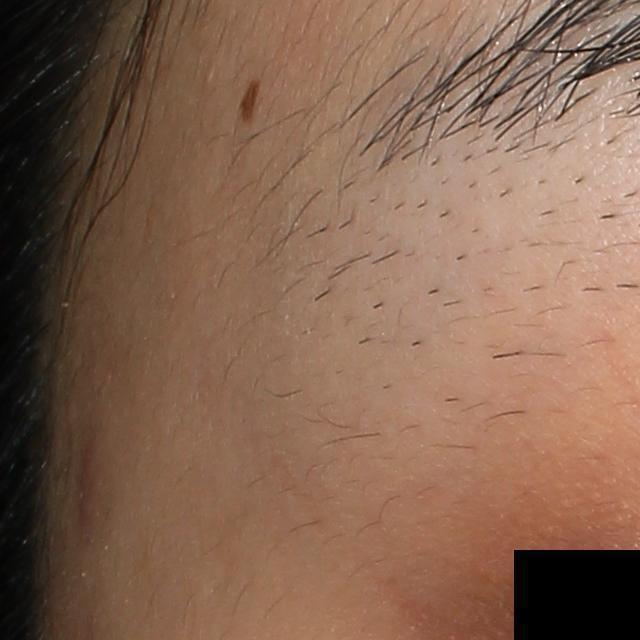nevus: (237, 79, 263, 127)
